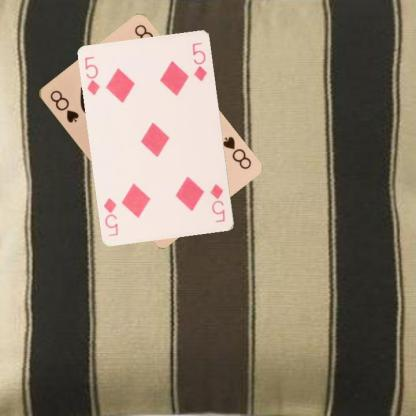5d: (82, 54, 102, 97), (208, 182, 226, 224)
8s: (47, 87, 80, 124), (219, 134, 252, 170)
